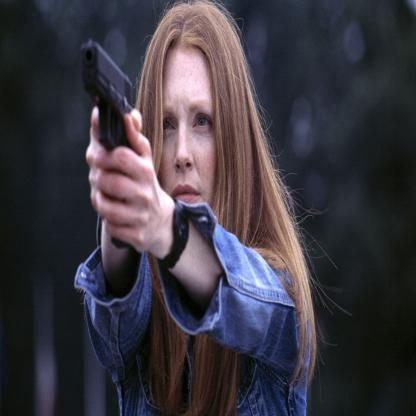Pistol: (79, 36, 134, 151)
